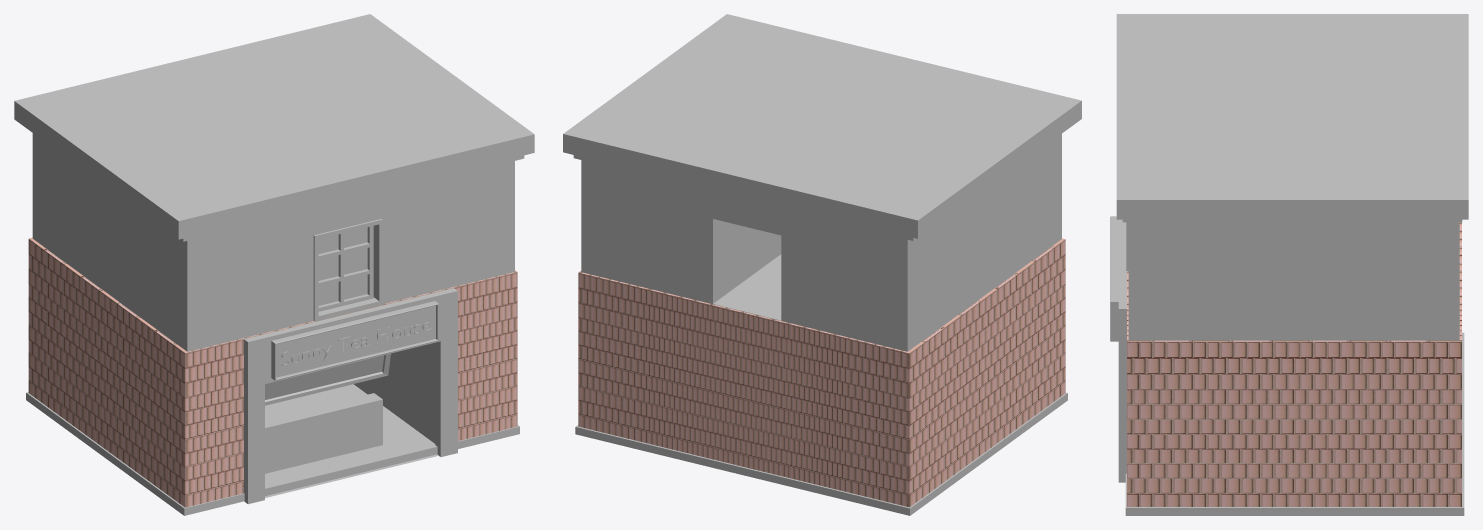
Rendered from CutsceneNewTEA.fbx.
3 views of the same model, side by side, from view 1: azimuth 30°, elevation 25°; view 2: azimuth 150°, elevation 25°; view 3: azimuth 270°, elevation 25° (orthographic). The views are drawn at different scales.
Parts seen in each view (by area): view 1: BuildingTop2, Wall2, WallT2, SignBig, Floor3, Cabinet2, SignLight2, Inside2, Menu, Windowglass2, WindowF2, Window2 (+2 smaller); view 2: WallT2, BuildingTop2, Wall2, Floor3; view 3: BuildingTop2, WallT2, Wall2, Floor3, SignBig, ShopsignBack2.
Boxes of the visible parts, box(x1,y1,x2,y2) form: BuildingTop2: box(14, 14, 534, 241); Wall2: box(32, 133, 514, 351); WallT2: box(28, 237, 517, 507); SignBig: box(244, 288, 457, 504); Floor3: box(26, 384, 519, 515); Cabinet2: box(265, 393, 382, 473); SignLight2: box(276, 305, 435, 377); Inside2: box(265, 343, 438, 497); Menu: box(265, 353, 390, 405); Windowglass2: box(318, 227, 367, 305); WindowF2: box(313, 218, 383, 321); Window2: box(318, 226, 373, 311); WallT2: box(578, 238, 1065, 507); BuildingTop2: box(563, 14, 1081, 240); Wall2: box(581, 134, 1061, 351); Floor3: box(575, 392, 1067, 515); BuildingTop2: box(1116, 14, 1468, 222); WallT2: box(1127, 222, 1461, 506); Wall2: box(1128, 222, 1459, 340); Floor3: box(1125, 332, 1464, 515); SignBig: box(1118, 219, 1126, 482); ShopsignBack2: box(1110, 216, 1118, 341).
Bounding box in the file's own units: 1999 × 1614 × 1626.
